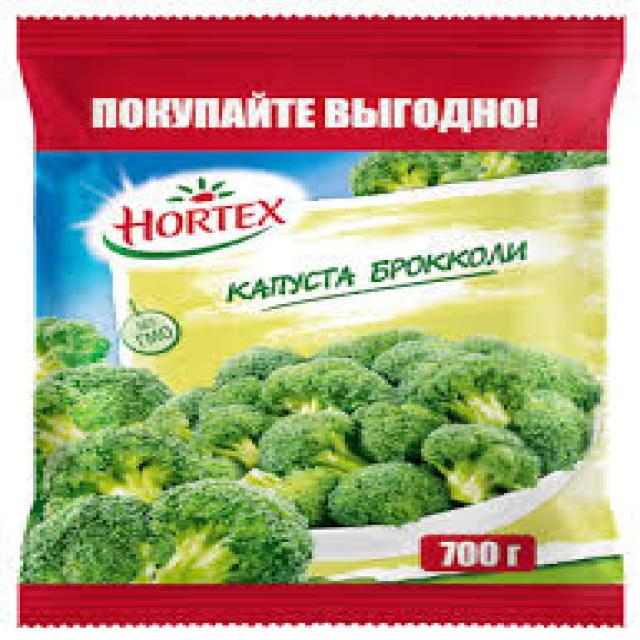broccoli: (10, 332, 258, 640), (211, 344, 603, 535)
